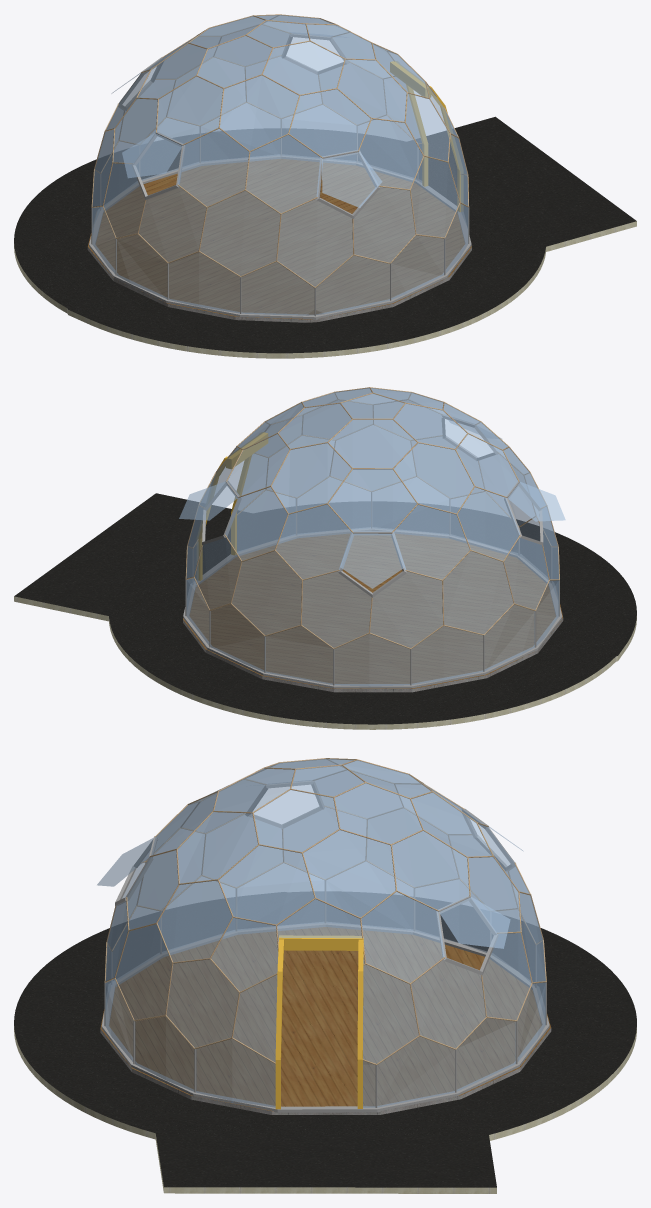
File: Купол.fbx
3 views of the same model, one above another, from view 1: azimuth 30°, elevation 25°; view 2: azimuth 150°, elevation 25°; view 3: azimuth 270°, elevation 25° (orthographic). The views are drawn at different scales.
Parts seen in each view (by area): view 1: Стекло - Голубое, Дорожное Покрытие - Асфальт Темный, Половая Доска - 01, Краска - Светло-Серая, Дерево - Сосна Продольная Горизонтальная, Бетон - 02, Металл - Золото, Бетон - 04; view 2: Стекло - Голубое, Дорожное Покрытие - Асфальт Темный, Половая Доска - 01, Краска - Светло-Серая, Дерево - Сосна Продольная Горизонтальная, Бетон - 02, Металл - Золото, Бетон - 04; view 3: Стекло - Голубое, Дорожное Покрытие - Асфальт Темный, Половая Доска - 01, Краска - Светло-Серая, Дерево - Сосна Продольная Горизонтальная, Бетон - 02, Металл - Золото, Бетон - 04.
Part boxes in pixels (box(x1,y1,x2,y2)): Стекло - Голубое: box(92, 15, 468, 315); Дорожное Покрытие - Асфальт Темный: box(14, 116, 636, 353); Половая Доска - 01: box(88, 159, 471, 319); Краска - Светло-Серая: box(89, 33, 471, 319); Дерево - Сосна Продольная Горизонтальная: box(91, 14, 468, 287); Бетон - 02: box(14, 221, 636, 358); Металл - Золото: box(390, 61, 462, 211); Бетон - 04: box(87, 247, 471, 322); Стекло - Голубое: box(179, 388, 565, 686); Дорожное Покрытие - Асфальт Темный: box(14, 493, 636, 724); Половая Доска - 01: box(183, 533, 562, 688); Краска - Светло-Серая: box(183, 415, 562, 688); Дерево - Сосна Продольная Горизонтальная: box(185, 387, 559, 648); Бетон - 02: box(14, 596, 636, 729); Металл - Золото: box(197, 432, 267, 580); Бетон - 04: box(183, 618, 563, 692); Стекло - Голубое: box(97, 758, 545, 1107); Дорожное Покрытие - Асфальт Темный: box(14, 892, 636, 1187); Половая Доска - 01: box(100, 927, 550, 1111); Краска - Светло-Серая: box(101, 780, 549, 1112); Дерево - Сосна Продольная Горизонтальная: box(104, 758, 546, 1064); Бетон - 02: box(14, 1026, 636, 1193); Металл - Золото: box(275, 935, 363, 1109); Бетон - 04: box(100, 1028, 551, 1114).
Bounding box in the file's own units: 811 × 721 × 318.
Materials: 8 (5 with a texture image).
